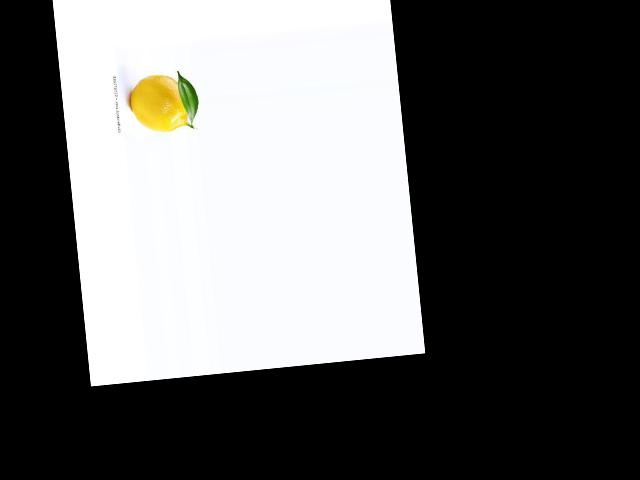lemon: (118, 65, 198, 140)
